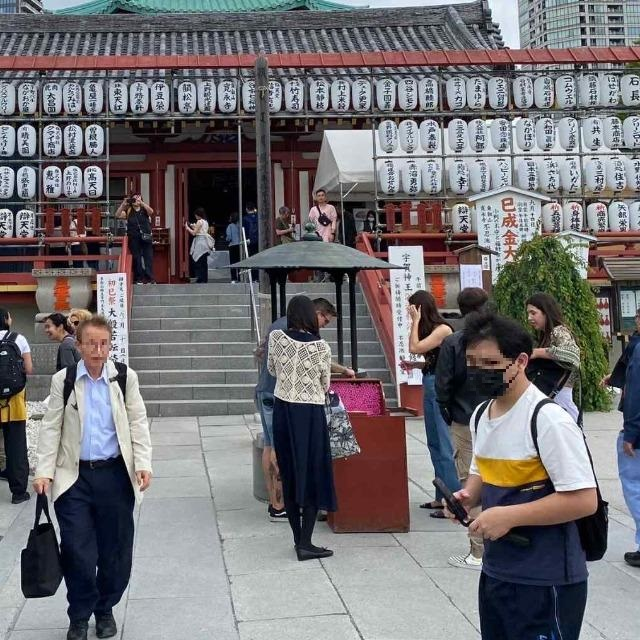NoVest: (461, 392, 600, 580), (50, 359, 144, 471)
